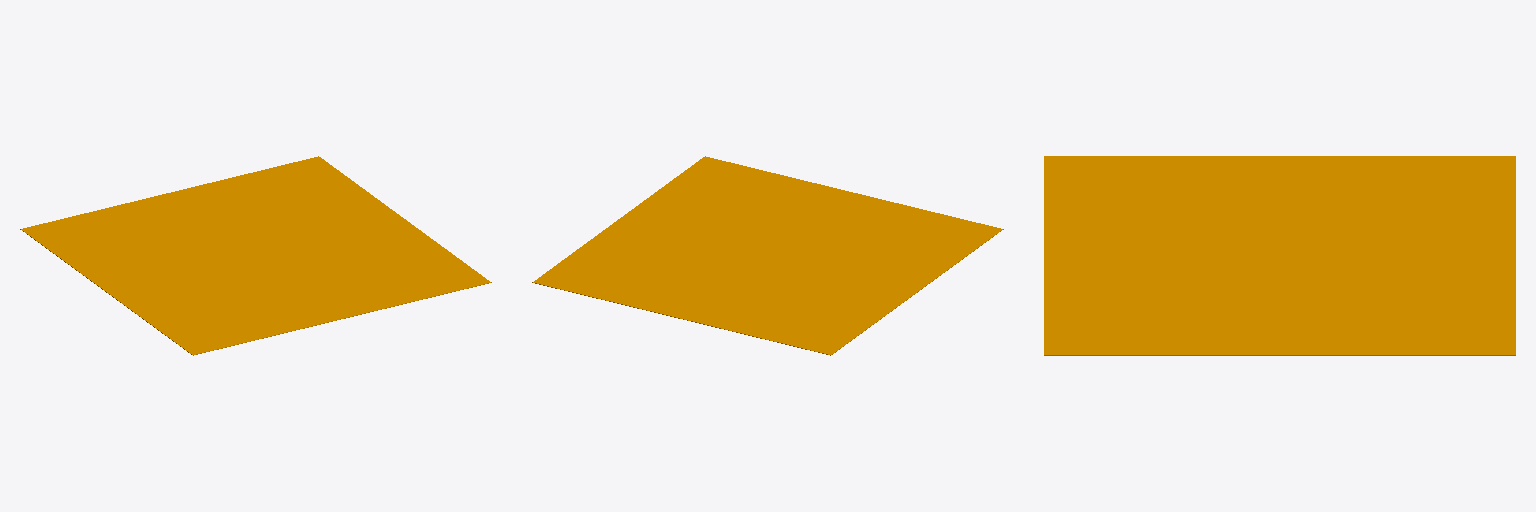
URDF robot description (floor):
<?xml version="1.0"?>
<robot name="floor">
<link name="floor">
    <visual>
        <origin xyz="0 0 0"/>
        <geometry>
            <mesh filename="floor/cuboid_rep2d.obj" scale="18.05 18.05 0.025"/>
        </geometry>
    </visual>
    <collision>
        <origin xyz="0 0 0"/>
        <geometry>
            <box size="36.1 36.1 0.05"/>
        </geometry>
    </collision>
    <inertial>
        <density value="1000.0"/>
    </inertial>
</link>
</robot>

--- Render facts (derived) ---
The picture shows the robot from 3 angles, left to right: view 1: azimuth 30°, elevation 25°; view 2: azimuth 150°, elevation 25°; view 3: azimuth 270°, elevation 25°; orthographic projection.
Model floor with 1 links and 0 joints (none), rooted at floor, posed all joints at 0.
Links seen in each view (by area): view 1: floor; view 2: floor; view 3: floor.
Link boxes in pixels (<box>): floor: <box>20,156,491,355</box>; floor: <box>532,156,1003,355</box>; floor: <box>1044,156,1515,355</box>.
Bounding box of the posed robot: 36.1 × 36.1 × 0.05 m (x, y, z).
Meshes: 1 distinct files referenced, 1 mesh visuals loaded (1 OBJ).
